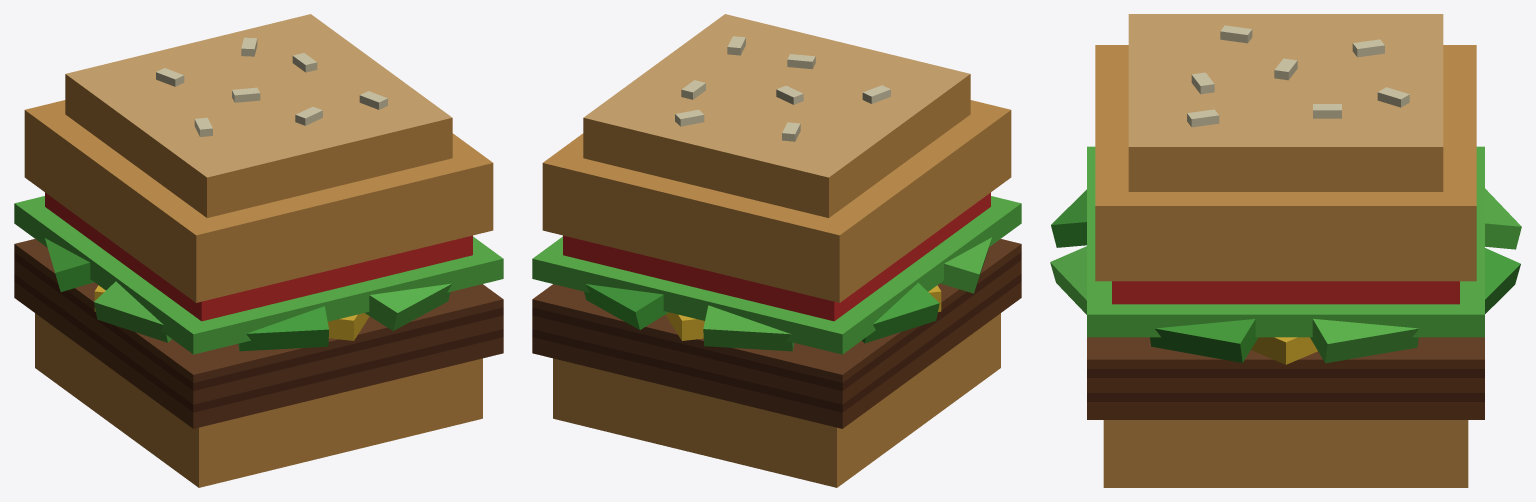
Rendered from burger.glb.
The picture shows the model from 3 angles, left to right: view 1: azimuth 30°, elevation 25°; view 2: azimuth 150°, elevation 25°; view 3: azimuth 270°, elevation 25°; orthographic projection. The views are drawn at different scales.
Visible parts, largest first — view 1: burger; view 2: burger; view 3: burger.
Boxes of the visible parts, box(x1,y1,x2,y2) form: burger: box(14, 14, 503, 487); burger: box(532, 14, 1021, 487); burger: box(1050, 14, 1521, 487).
Size of the model in its own units: 0.5 by 0.396 by 0.5.
